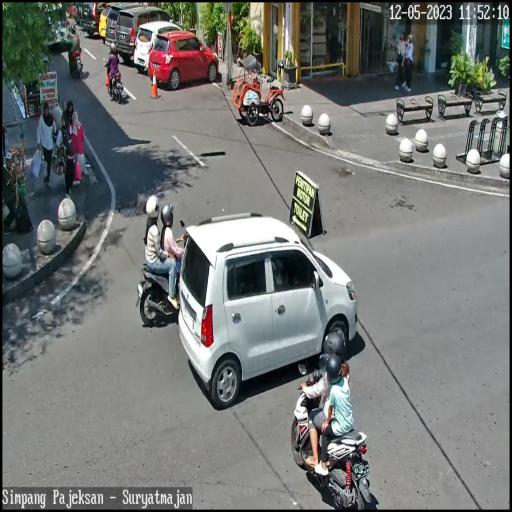mobil: (176, 209, 362, 407), (148, 26, 220, 92), (115, 6, 176, 74), (136, 22, 184, 81)
motor: (289, 363, 373, 509), (136, 234, 200, 329), (102, 56, 124, 108)
